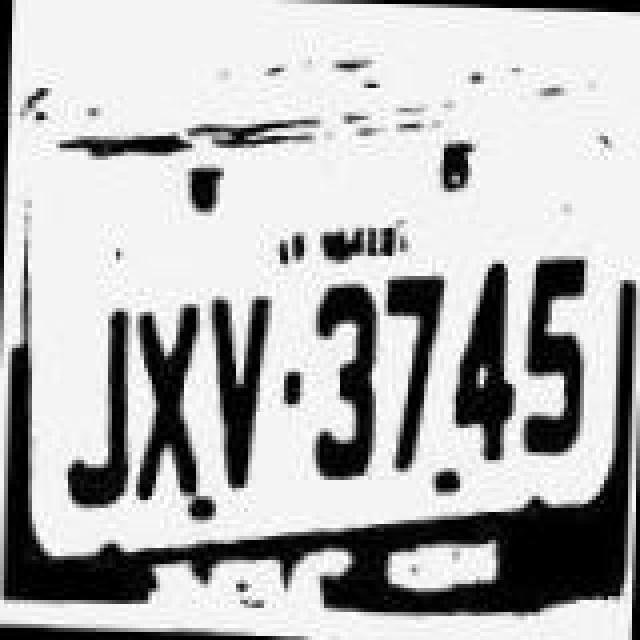3: (300, 268, 384, 500)
4: (446, 234, 518, 474)
5: (512, 240, 596, 488)
7: (376, 250, 452, 478)
J: (58, 280, 138, 512)
V: (200, 284, 276, 496)
X: (134, 266, 206, 498)
